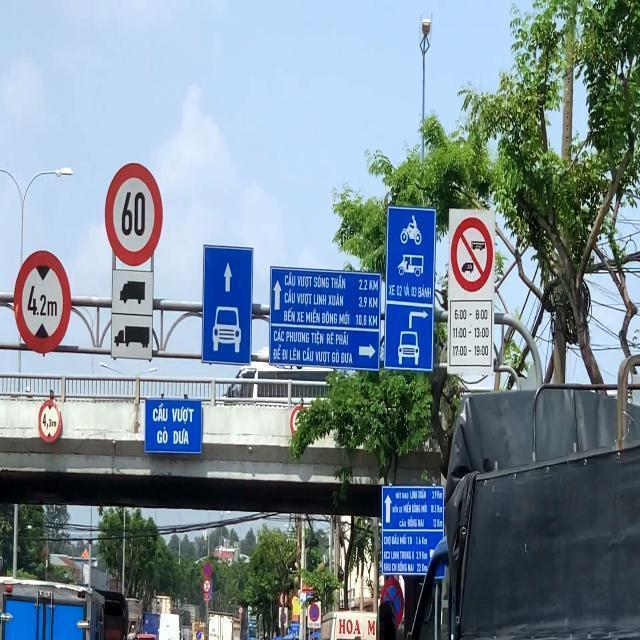127-toc-do-toi-da-60: (103, 163, 165, 265)
130-cam-dung-va-do-xe: (378, 578, 409, 630)
